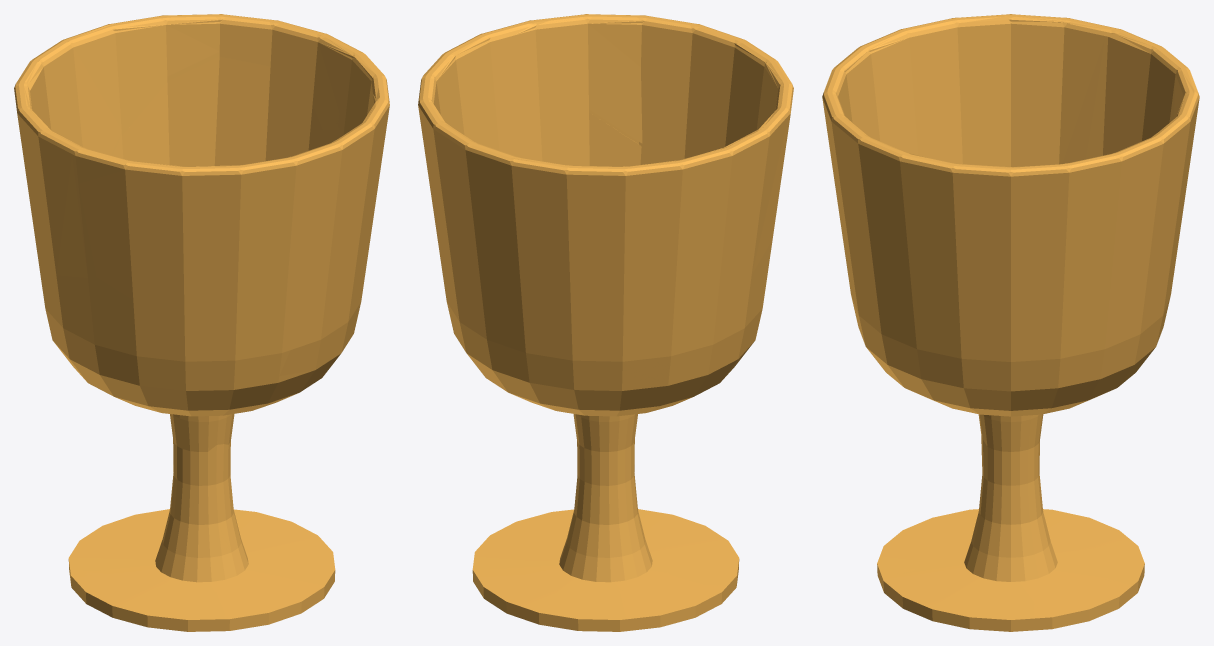
Rendered from MO_Goblet.fbx.
3 renders of one model, left to right at view 1: azimuth 30°, elevation 25°; view 2: azimuth 150°, elevation 25°; view 3: azimuth 270°, elevation 25°, orthographic.
Visible parts, largest first — view 1: goblet, goblet_cell.002, goblet_cell.001, goblet_cell.006, goblet_cell.003, goblet_cell.007, goblet_cell.005, goblet_cell.008, goblet_cell.009; view 2: goblet, goblet_cell.003, goblet_cell.002, goblet_cell.005, goblet_cell.001, goblet_cell.009, goblet_cell.008, goblet_cell.007; view 3: goblet, goblet_cell.005, goblet_cell.003, goblet_cell.007, goblet_cell.002, goblet_cell.008.
Part boxes in pixels (<box>): goblet: <box>14,14,389,631</box>; goblet_cell.002: <box>78,88,389,314</box>; goblet_cell.001: <box>56,278,287,416</box>; goblet_cell.006: <box>113,56,322,166</box>; goblet_cell.003: <box>68,431,335,609</box>; goblet_cell.007: <box>26,14,374,155</box>; goblet_cell.005: <box>174,132,382,443</box>; goblet_cell.008: <box>24,88,93,278</box>; goblet_cell.009: <box>70,570,297,629</box>; goblet: <box>418,14,793,631</box>; goblet_cell.003: <box>477,428,679,625</box>; goblet_cell.002: <box>510,17,783,143</box>; goblet_cell.005: <box>463,112,641,428</box>; goblet_cell.001: <box>727,243,771,373</box>; goblet_cell.009: <box>652,530,738,623</box>; goblet_cell.008: <box>692,111,788,274</box>; goblet_cell.007: <box>428,37,675,166</box>; goblet: <box>822,14,1199,631</box>; goblet_cell.005: <box>847,196,1060,446</box>; goblet_cell.003: <box>882,435,1144,631</box>; goblet_cell.007: <box>928,33,1194,236</box>; goblet_cell.002: <box>822,30,927,234</box>; goblet_cell.008: <box>965,16,1109,163</box>.
Bounding box in the file's own units: 28.3 × 39.99 × 28.3.
